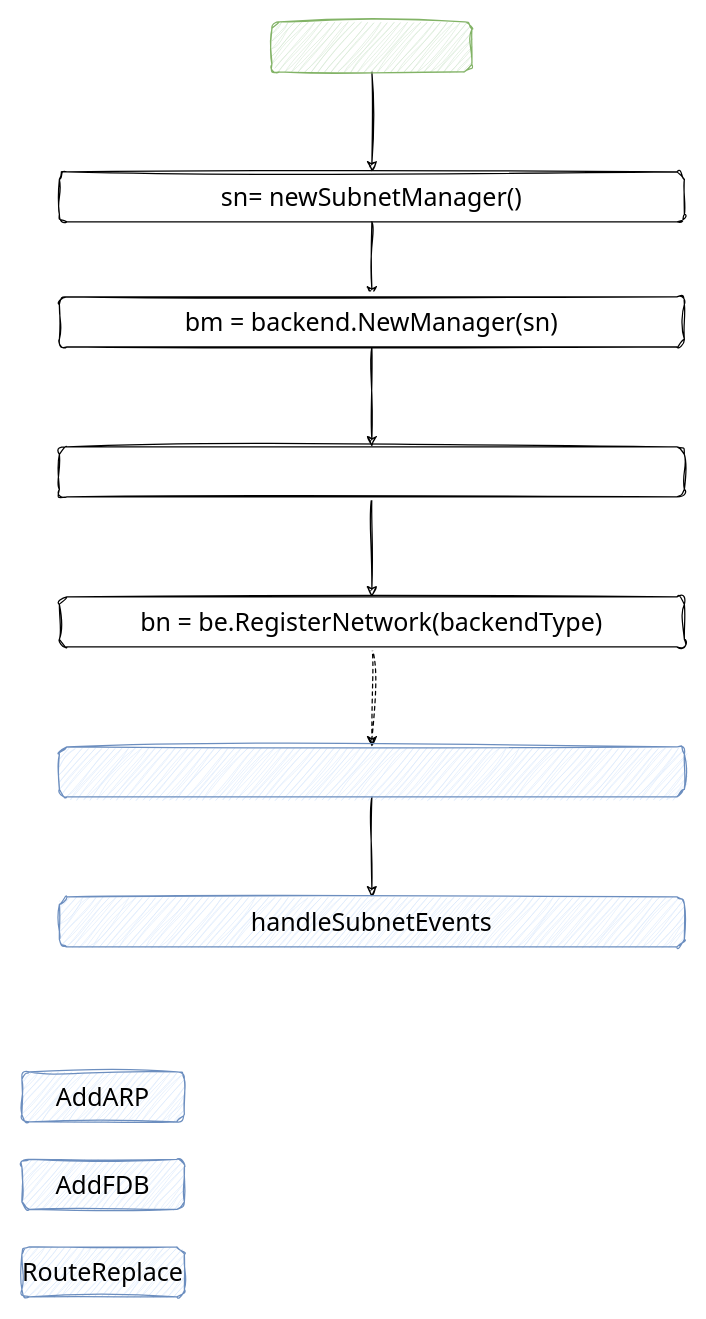
Image size: 706x1319. Some labels were removed from this diagram. Each missing label, with the box of its shape:
be = bm.GetBackend(backendType): (58, 446, 684, 497)
bn.Run(): (58, 746, 684, 797)
main(): (271, 21, 472, 72)
